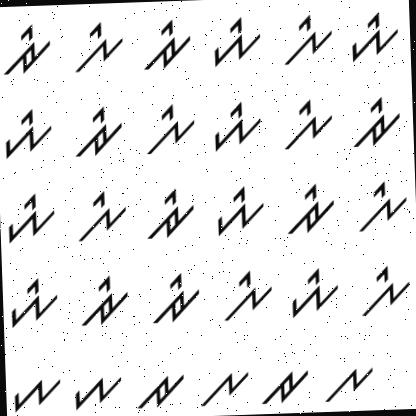la: (197, 366, 254, 414), (321, 362, 378, 404)
li: (350, 176, 413, 240), (278, 96, 342, 158), (278, 10, 340, 74), (215, 264, 276, 326), (72, 184, 130, 245), (356, 258, 413, 320), (72, 16, 127, 76), (142, 102, 198, 156)
ra: (258, 361, 312, 410), (136, 367, 189, 412)
ri: (145, 264, 204, 330), (348, 89, 404, 153), (282, 174, 338, 236), (73, 103, 127, 164), (76, 271, 130, 330), (141, 17, 194, 76), (142, 186, 198, 241), (0, 22, 56, 77)
ya: (68, 371, 128, 411), (12, 371, 63, 414)
yi: (207, 183, 269, 245), (3, 185, 58, 252), (207, 13, 266, 72), (0, 103, 57, 164), (207, 94, 264, 154), (342, 10, 400, 68), (286, 266, 342, 322), (8, 275, 64, 328)
